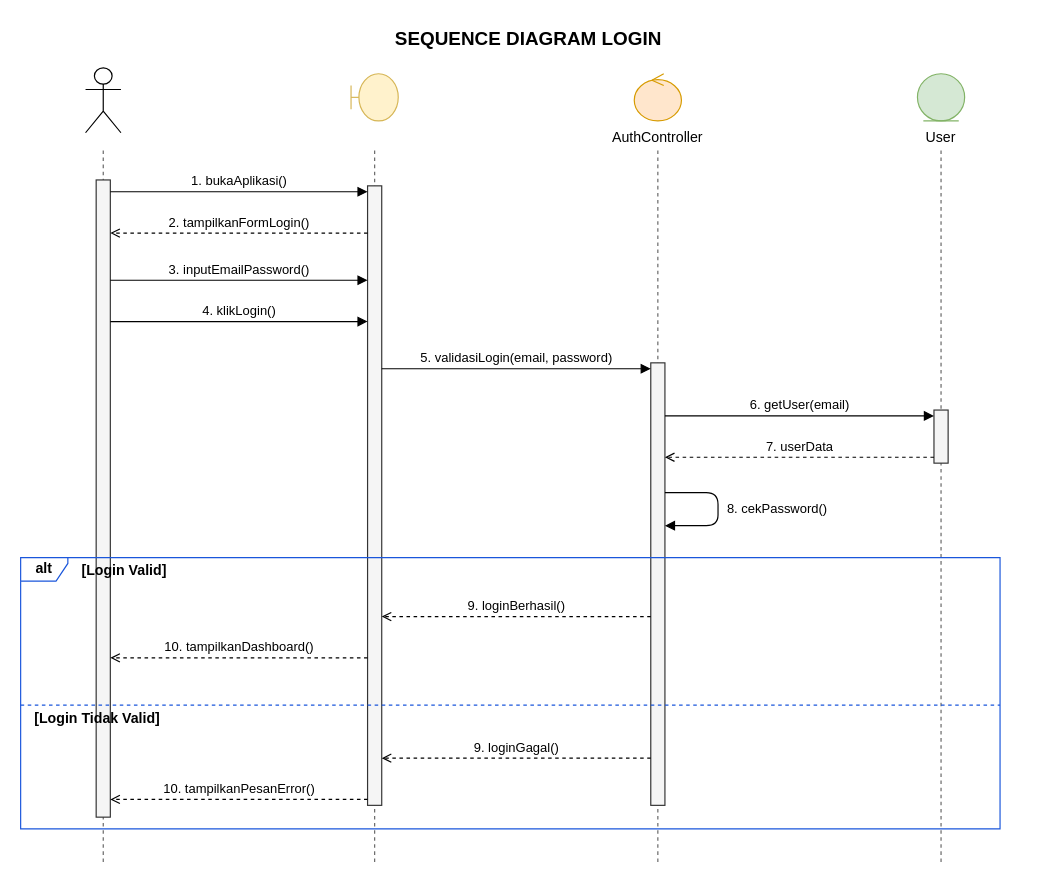
Some shapes in this 1044 by 886 pixel diagram are drawn without their labels. The centre of each missing label's shape, as x and y in pixels:
LoginUI: (x=374, y=97)
Mahasiswa: (x=102, y=100)
